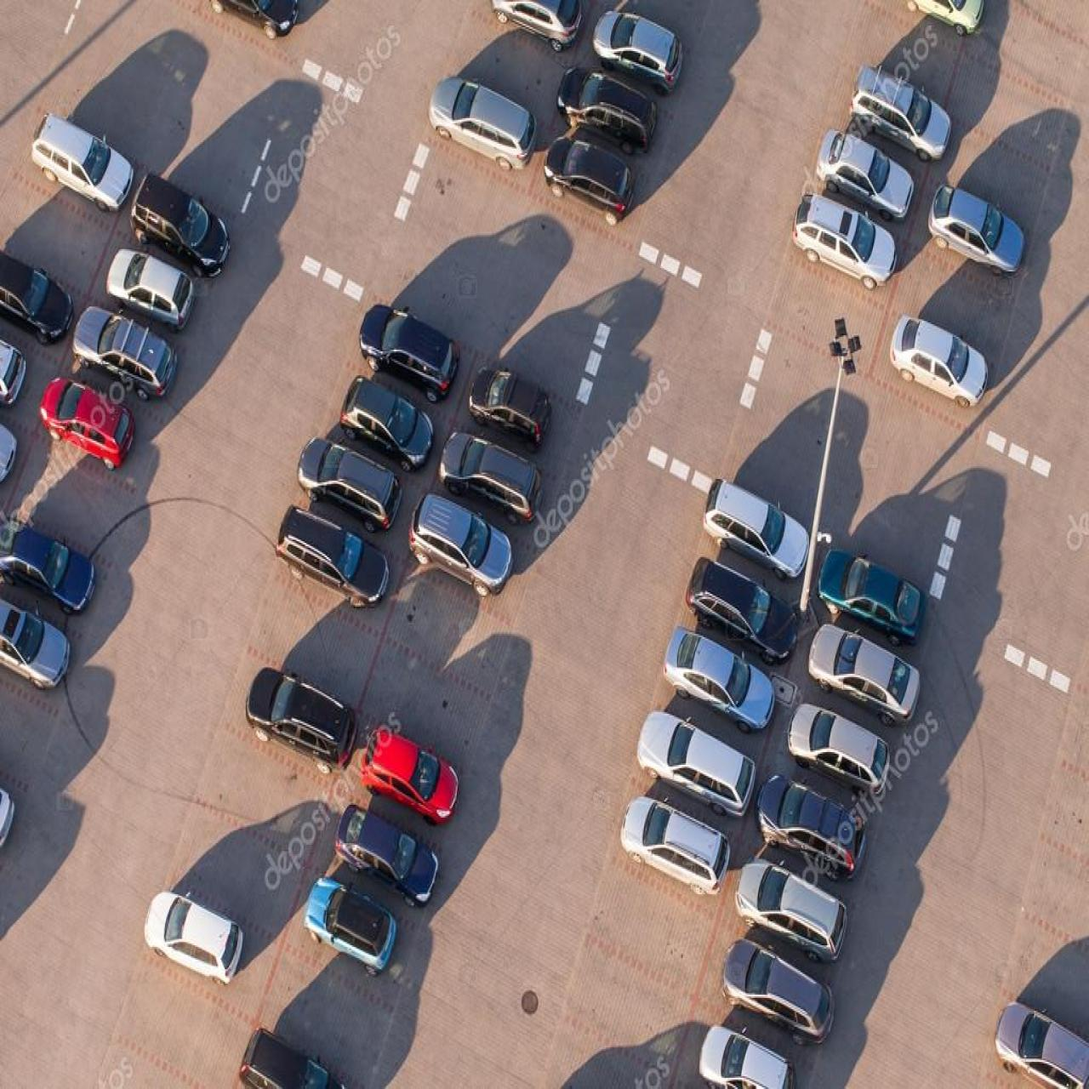cars: (138, 875, 265, 1032), (241, 658, 360, 776), (275, 499, 392, 619), (300, 870, 402, 1004), (692, 481, 811, 595), (350, 306, 467, 417), (427, 66, 540, 180), (681, 552, 790, 670), (814, 554, 931, 663), (895, 314, 992, 443), (467, 350, 564, 479), (661, 621, 775, 730), (409, 482, 506, 610), (32, 108, 136, 227), (615, 795, 723, 909), (792, 624, 911, 727), (634, 704, 744, 814), (785, 181, 890, 296), (538, 130, 643, 244), (299, 422, 400, 540), (915, 181, 1025, 289), (752, 771, 866, 875), (437, 414, 538, 528), (737, 866, 850, 966), (549, 61, 673, 152), (48, 369, 146, 484), (0, 530, 97, 640), (354, 727, 451, 836), (130, 173, 225, 277), (337, 795, 430, 901), (723, 933, 826, 1027), (349, 373, 440, 479), (781, 701, 888, 790), (95, 248, 198, 339), (72, 311, 170, 405), (988, 998, 1089, 1089), (816, 135, 920, 216), (0, 586, 70, 706), (845, 84, 951, 159), (699, 1017, 796, 1089), (584, 10, 688, 72), (0, 270, 69, 363)
empty: (198, 715, 323, 862), (120, 957, 256, 1084), (175, 795, 295, 937), (267, 942, 387, 1084), (590, 850, 710, 988), (565, 942, 684, 1070), (906, 222, 1012, 356), (259, 581, 376, 696), (16, 434, 123, 554), (953, 53, 1063, 161), (374, 653, 478, 767), (395, 556, 495, 670), (968, 7, 1084, 92), (951, 130, 1037, 239), (9, 177, 98, 277), (771, 272, 881, 349), (999, 911, 1087, 1005), (845, 10, 955, 80), (455, 7, 554, 77)
